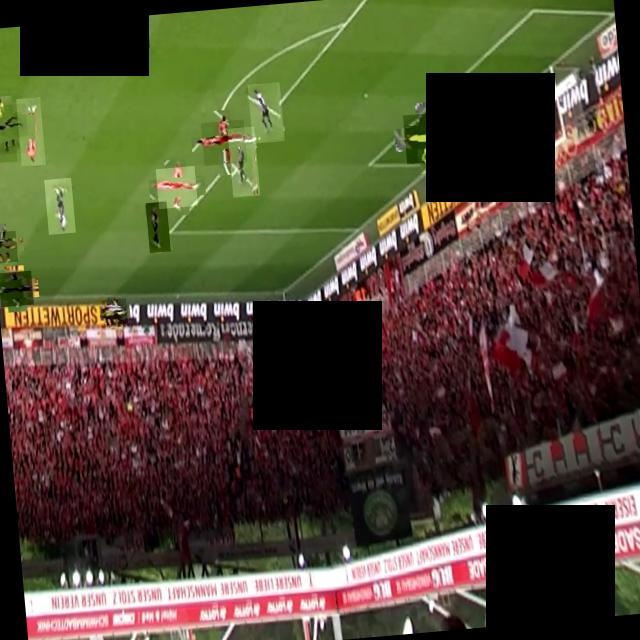goalkeeper: (402, 110, 456, 163)
referee: (0, 102, 28, 155), (100, 297, 126, 324)
soccer-player: (226, 125, 259, 196), (246, 80, 283, 142), (199, 118, 246, 165), (15, 96, 44, 166), (42, 176, 74, 234), (154, 165, 197, 208), (144, 200, 169, 252), (114, 14, 148, 49), (0, 269, 32, 306), (0, 229, 17, 262)
